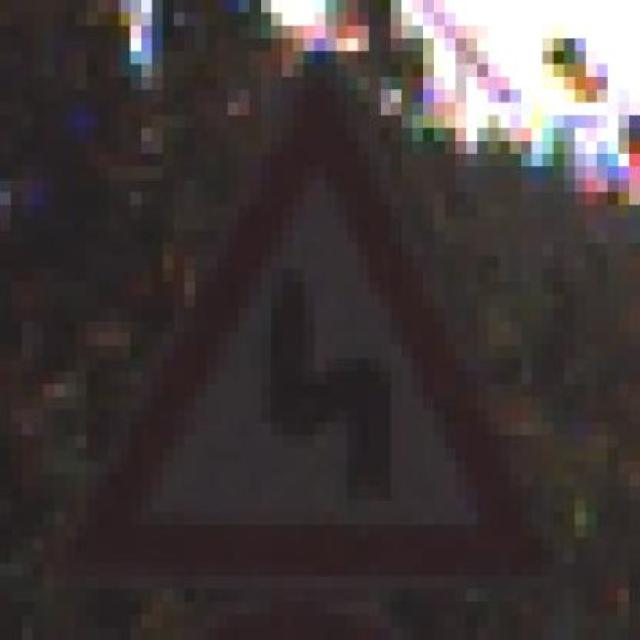Left Zig Zag Traffic: (75, 64, 576, 588)
